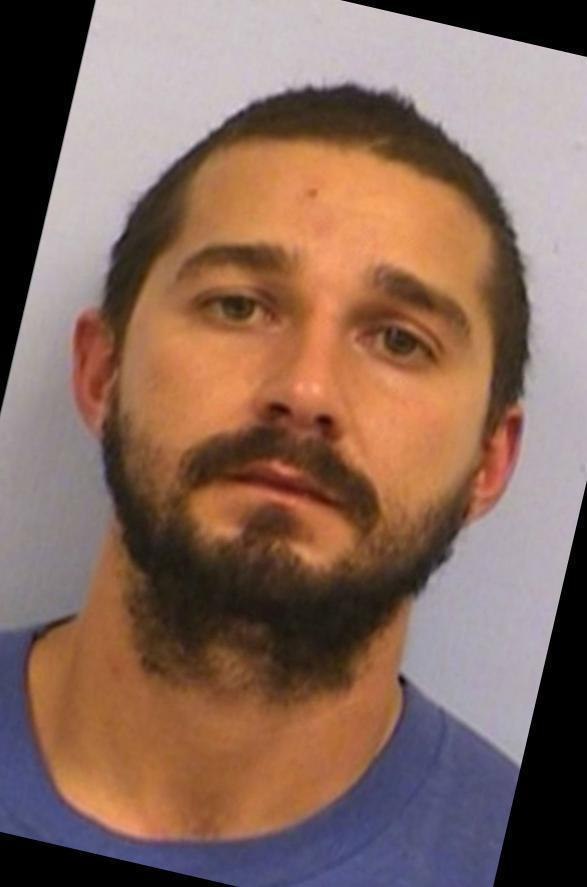Drunk: (159, 160, 485, 591)
